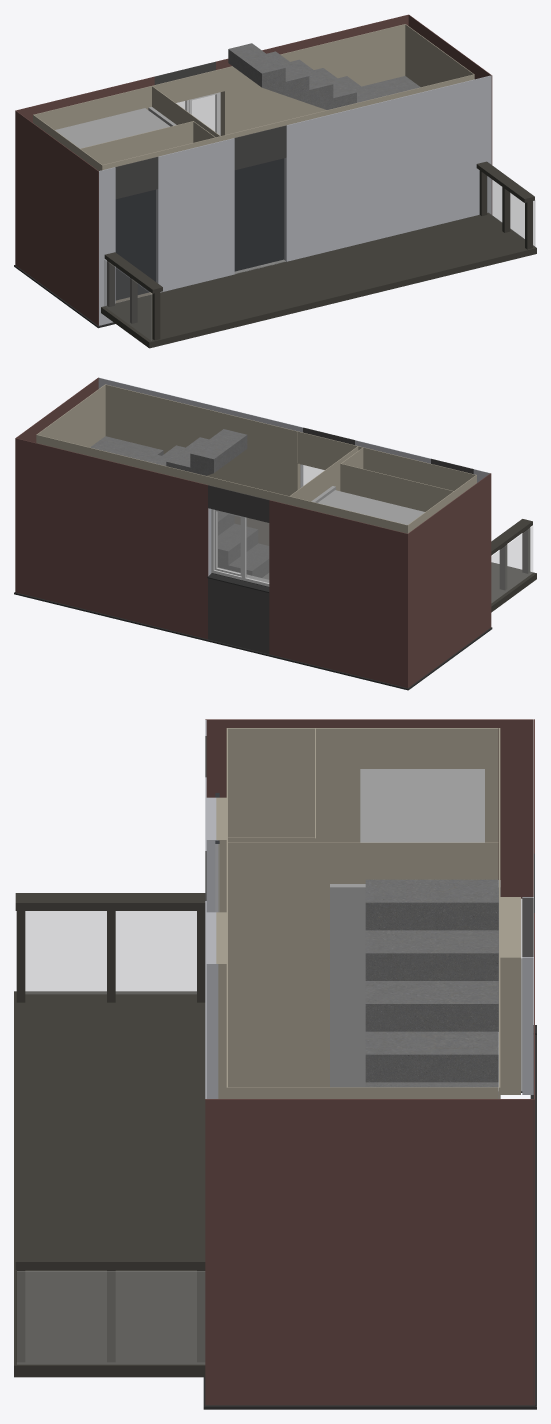
File: Trepikoda_2K_Viimistlus_C.glb
3 renders of one model, top to bottom at view 1: azimuth 30°, elevation 25°; view 2: azimuth 150°, elevation 25°; view 3: azimuth 270°, elevation 25°, orthographic. The views are drawn at different scales.
Visible parts, largest first — view 1: Kiudtsementplaat_118, Box429, Kiudtsementplaat_119, Uks_046 (×2), UTypeStair014, Box428 (×2), Box436, Box432, Box430 (×2), Aken_Tava_151; view 2: Kiudtsementplaat_118, Kiudtsementplaat_119, UTypeStair014, Aken_Tava_151, Box428, Box436, Box429, Veeplekk_elementide_vahel_209, Box432, Box430; view 3: Kiudtsementplaat_118, Box429, Kiudtsementplaat_119, Box428 (×2), UTypeStair014, Box436, Box435, Box430 (×2), Box432, Veeplekk_elementide_vahel_208, Veeplekk_elementide_vahel_209.
Part boxes in pixels (x1,y1,x2,y2): Kiudtsementplaat_118: (15, 14, 492, 325); Box429: (101, 212, 536, 348); Kiudtsementplaat_119: (33, 24, 474, 302); Uks_046 (×2): (115, 158, 284, 300); UTypeStair014: (228, 43, 420, 109); Box428 (×2): (104, 177, 535, 340); Box436: (55, 108, 169, 148); Box432: (107, 170, 532, 340); Box430 (×2): (104, 161, 534, 293); Aken_Tava_151: (176, 92, 220, 135); Kiudtsementplaat_118: (15, 377, 491, 687); Kiudtsementplaat_119: (36, 384, 476, 545); UTypeStair014: (90, 429, 268, 577); Aken_Tava_151: (207, 509, 269, 592); Box428: (491, 526, 532, 602); Box436: (318, 490, 424, 524); Box429: (491, 562, 536, 612); Veeplekk_elementide_vahel_209: (14, 592, 408, 690); Box432: (499, 527, 530, 590); Box430: (491, 519, 532, 555); Kiudtsementplaat_118: (205, 719, 534, 1405); Box429: (14, 991, 205, 1377); Kiudtsementplaat_119: (216, 728, 520, 1098); Box428 (×2): (17, 911, 204, 1364); UTypeStair014: (365, 879, 498, 1087); Box436: (360, 769, 484, 842); Box435: (330, 880, 500, 1098); Box430 (×2): (15, 893, 205, 1269); Box432: (16, 911, 205, 1362); Veeplekk_elementide_vahel_208: (203, 1405, 536, 1409); Veeplekk_elementide_vahel_209: (530, 1025, 536, 1406).
Bounding box in the file's own units: 8.35 × 3.53 × 4.83.
13 materials, 2 textured.
